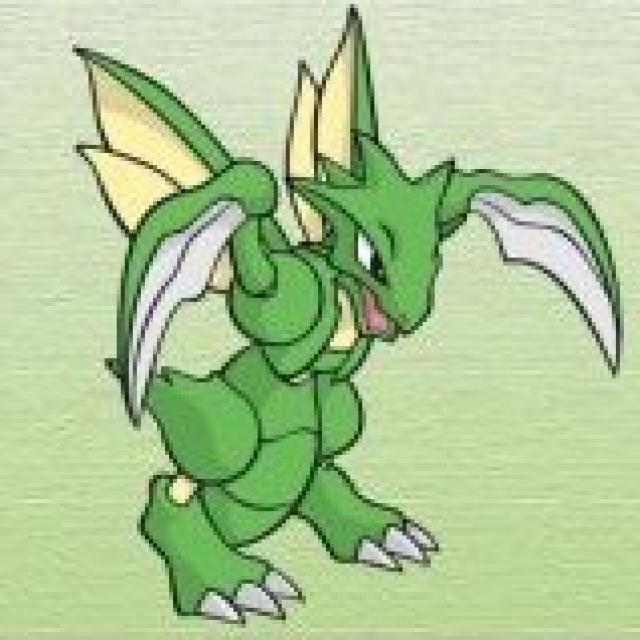Scyther: (116, 13, 527, 589)
